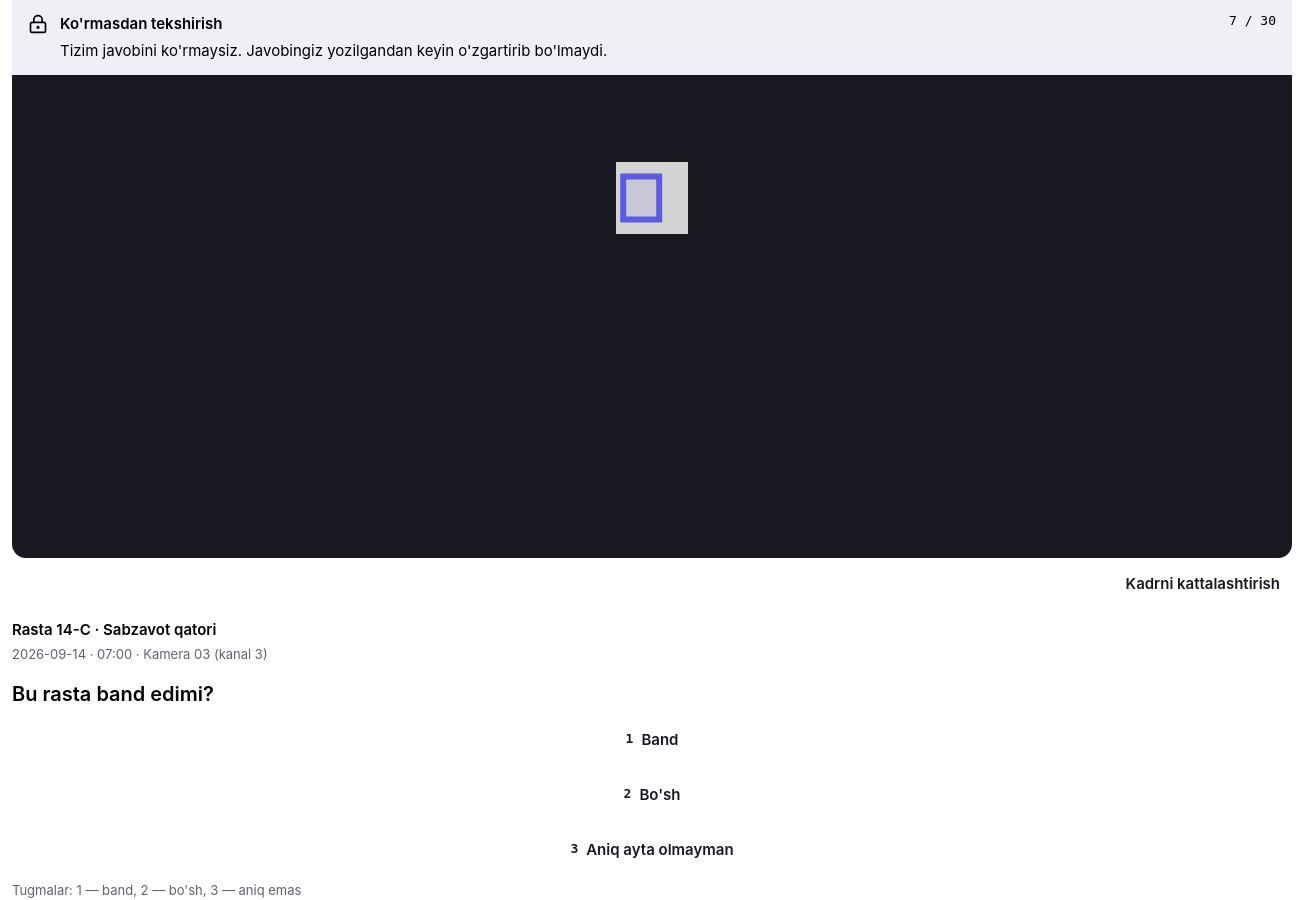
Test: ⛔ oshkor ma'lumot kesh grafiga TUSHMAYDI › javobdan keyin ham oshkor ma'lumot KESHDA TOPILMAYDI
(page scrolled)
Click the button "1 Band".
click(652, 739)  # box [12,716,1292,763]
(page scrolled)
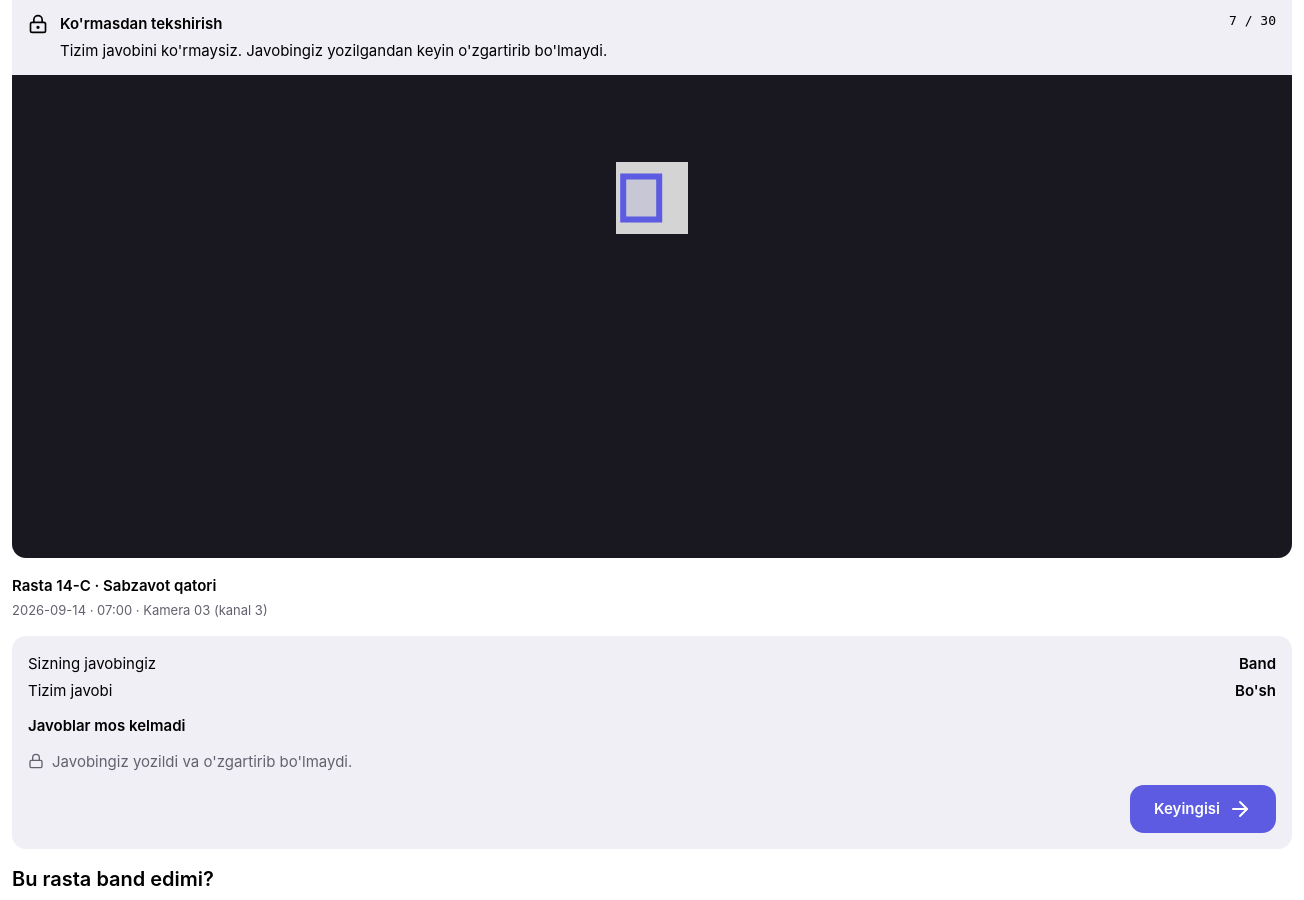
Now the text "Javoblar mos kelmadi" is shown, box [28,716,185,735]
